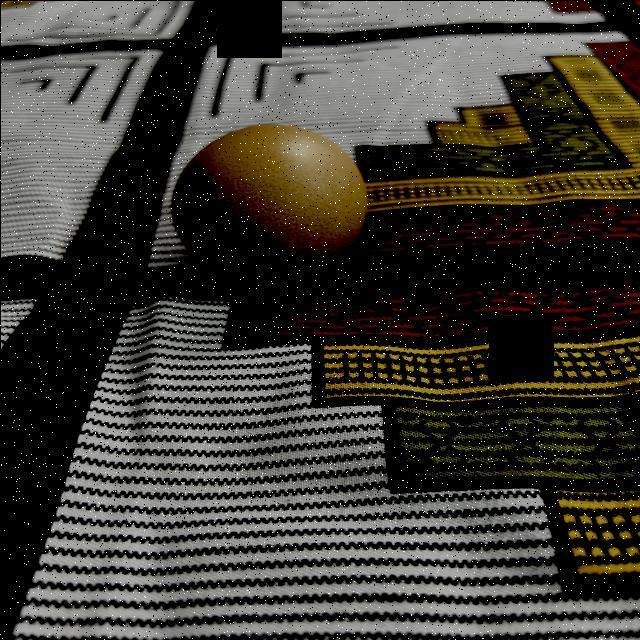egg: (172, 121, 372, 283)
